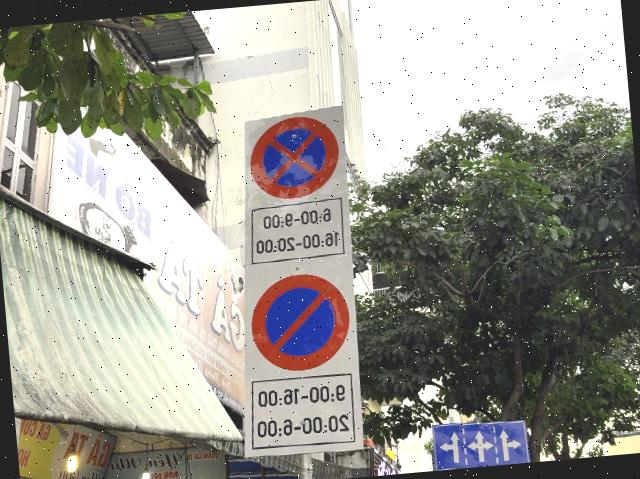cam-do-xe: (248, 270, 352, 374)
cam-dung-va-do-xe: (246, 112, 342, 202)
